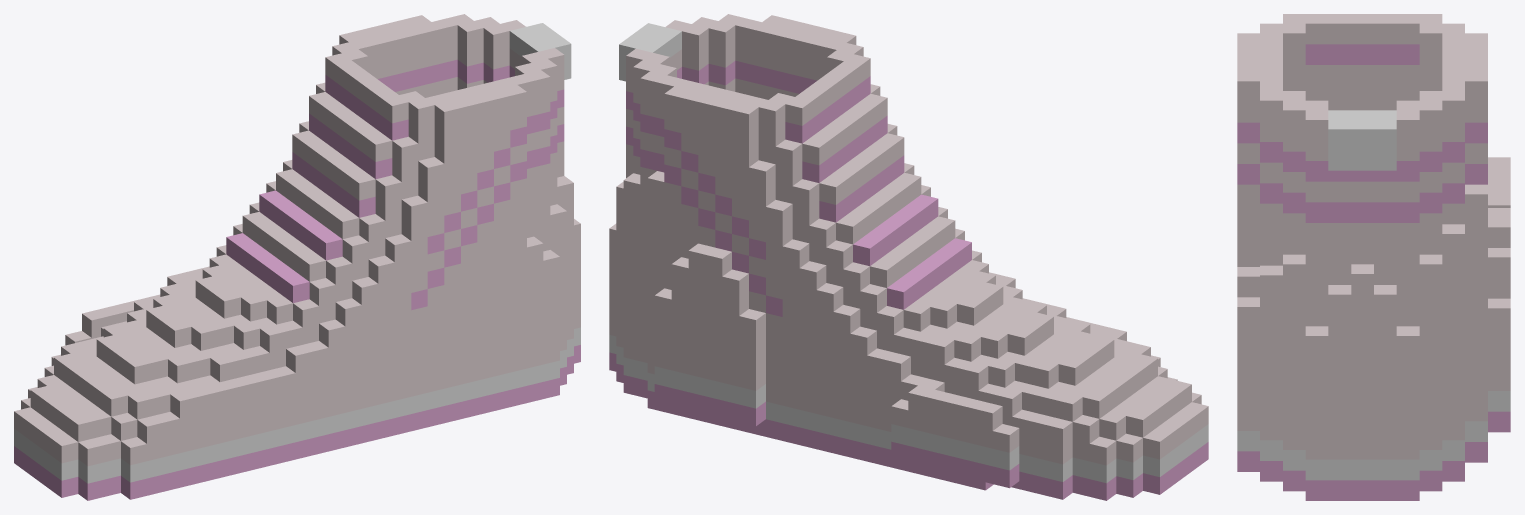
The picture shows the model from 3 angles, left to right: view 1: azimuth 30°, elevation 25°; view 2: azimuth 150°, elevation 25°; view 3: azimuth 270°, elevation 25°; orthographic projection. The views are drawn at different scales.
Size of the model in its own units: 1.6 by 0.9 by 0.6.
